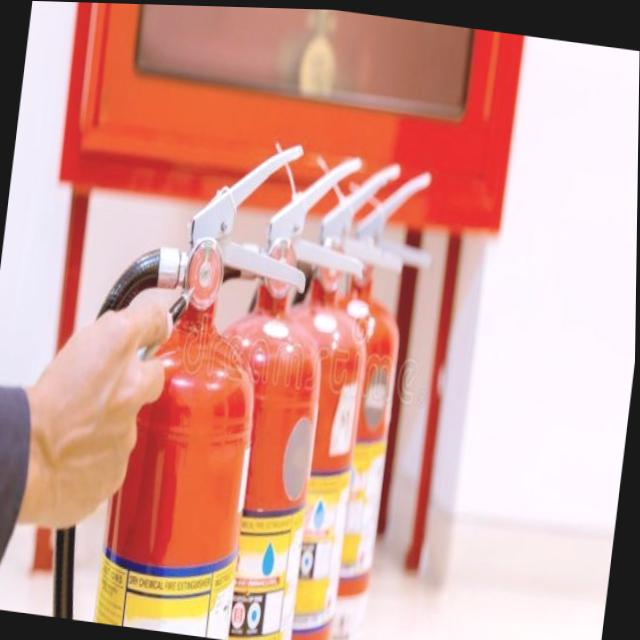FireExtinguisher: (43, 98, 325, 640), (183, 122, 385, 640)
